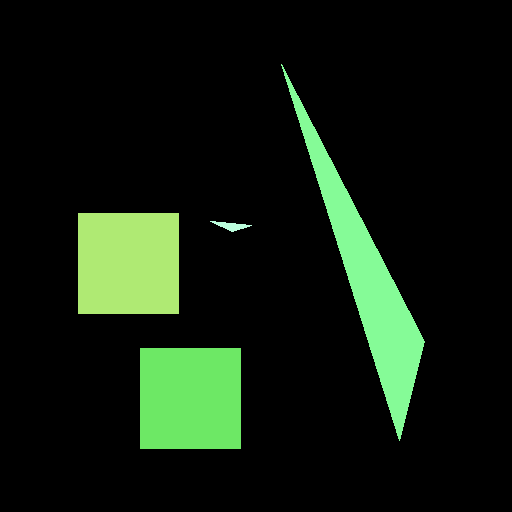square: (140, 348, 240, 448), (78, 213, 178, 313)
triangle: (281, 64, 424, 440), (210, 221, 251, 231)
